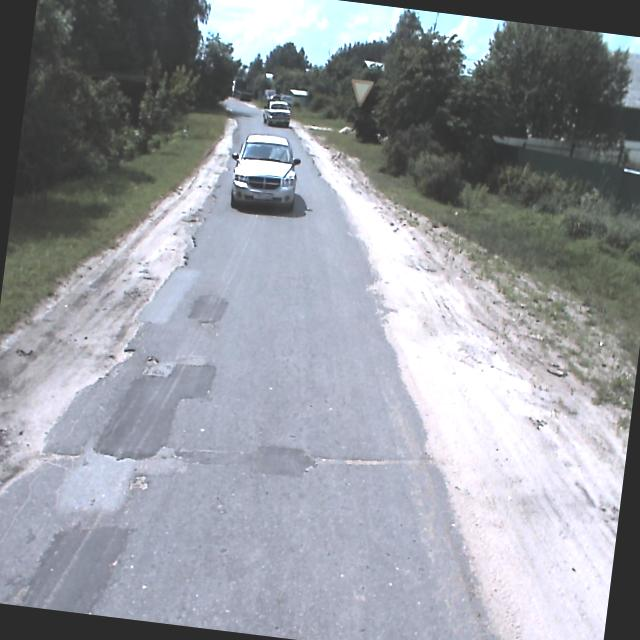road: (0, 97, 499, 640)
